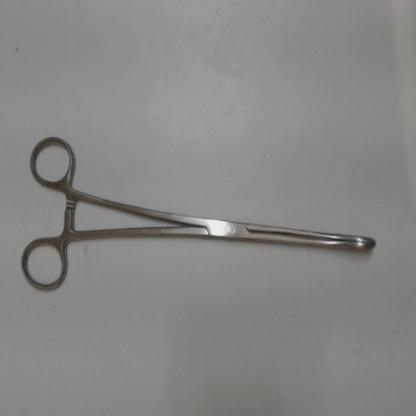Sponge Forceps: (13, 128, 387, 302)
